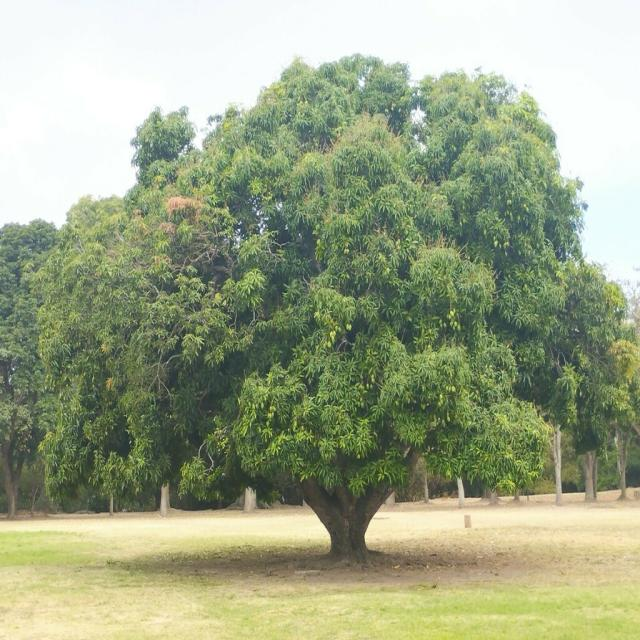Mango-Tree: (46, 42, 618, 571)
